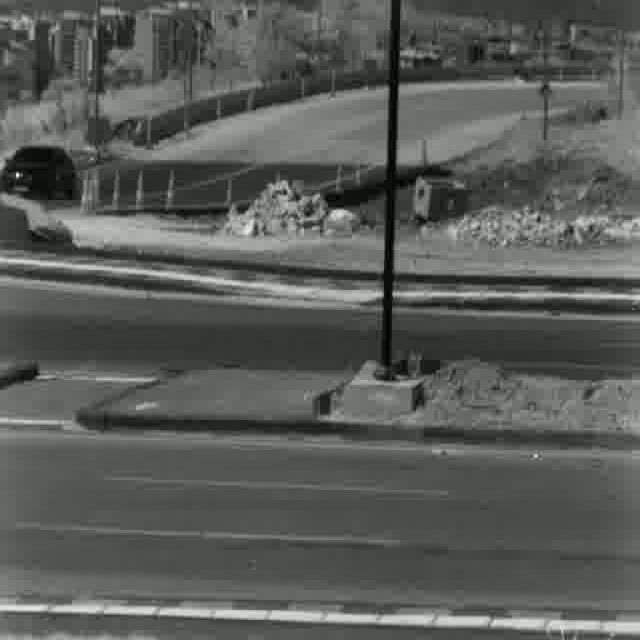Car: (2, 144, 84, 202)
